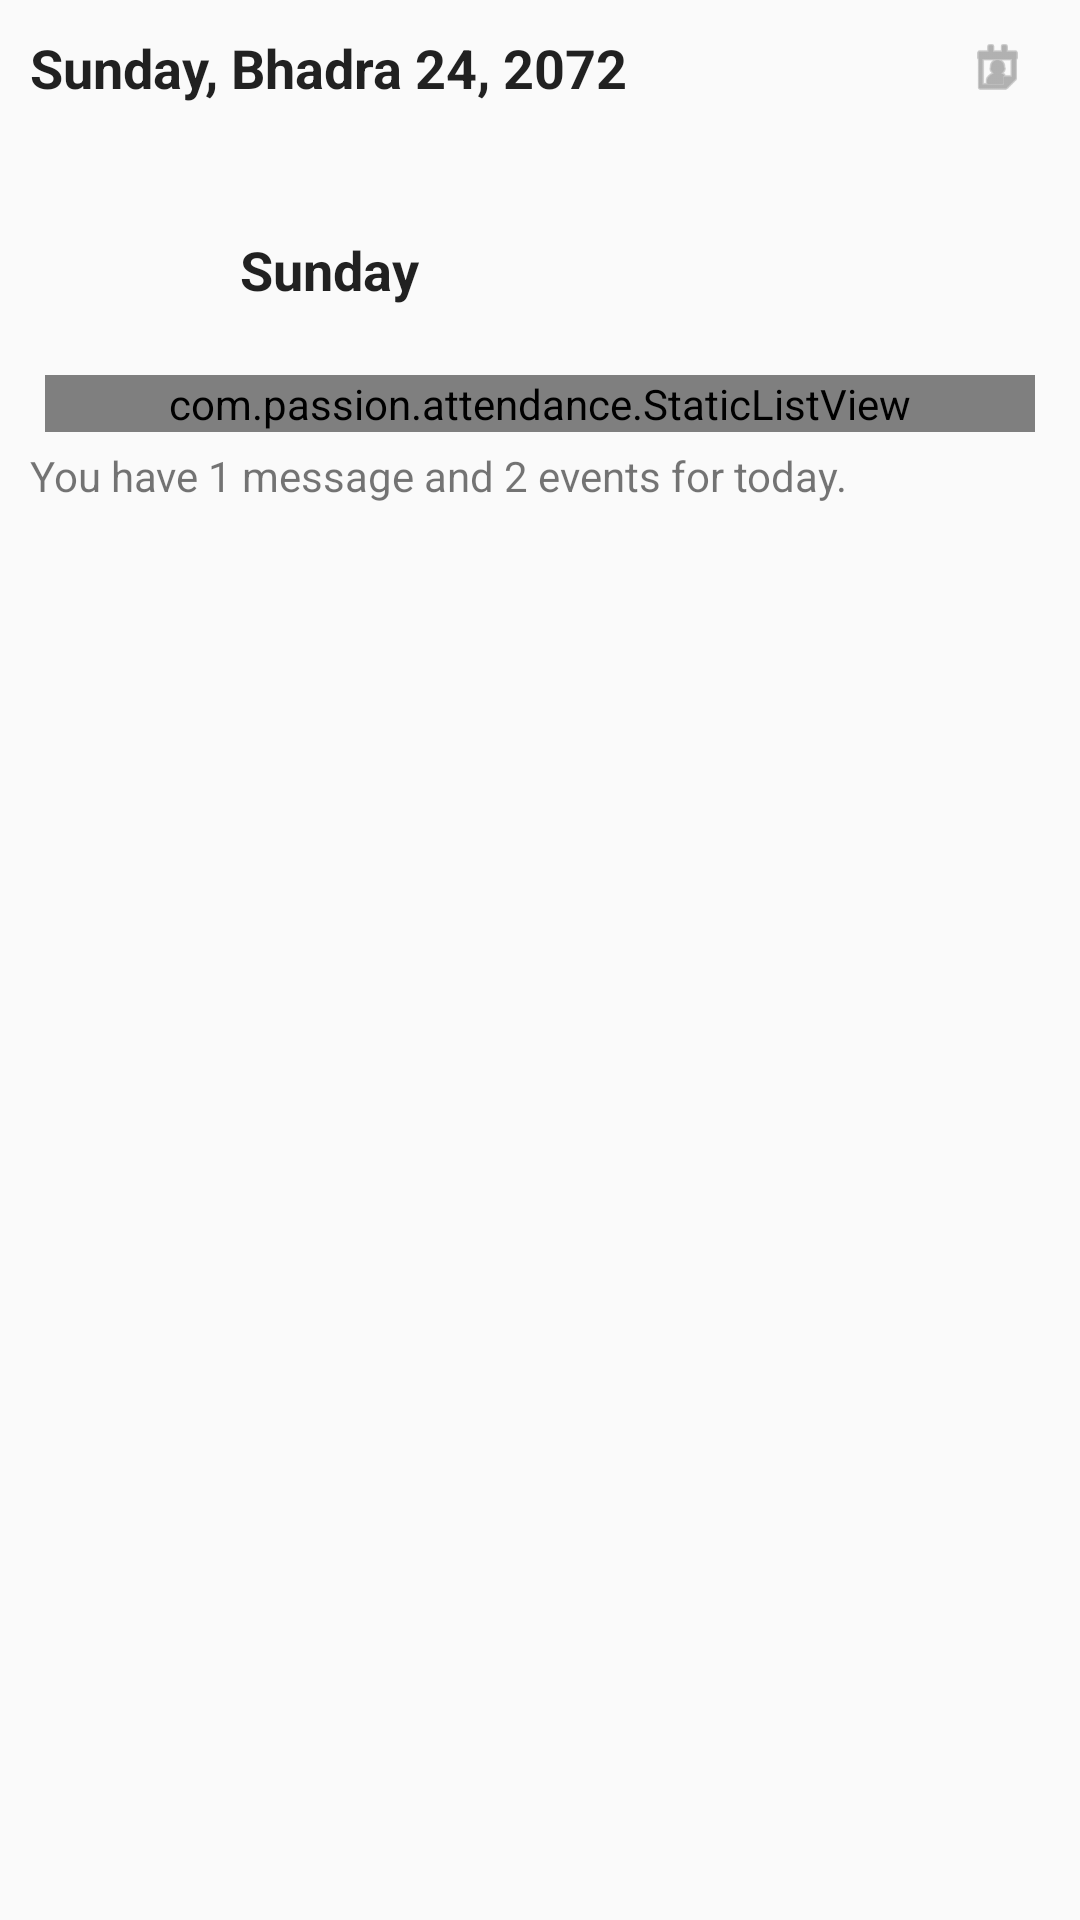

Icons on this 1080 x 1920 Android screen, each with its box as (x1, y1, x2, y2):
calendar: (977, 44, 1018, 90)
